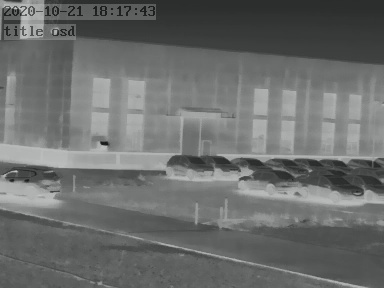vehicle: (1, 165, 62, 203), (301, 173, 362, 202), (239, 169, 303, 193), (165, 153, 211, 179), (205, 153, 243, 177), (355, 173, 384, 199), (234, 155, 272, 172), (262, 155, 301, 171), (347, 156, 378, 170), (296, 156, 325, 169), (317, 157, 346, 170)
